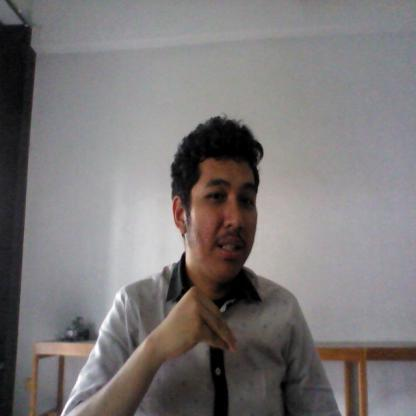Malam: (135, 281, 248, 384)
